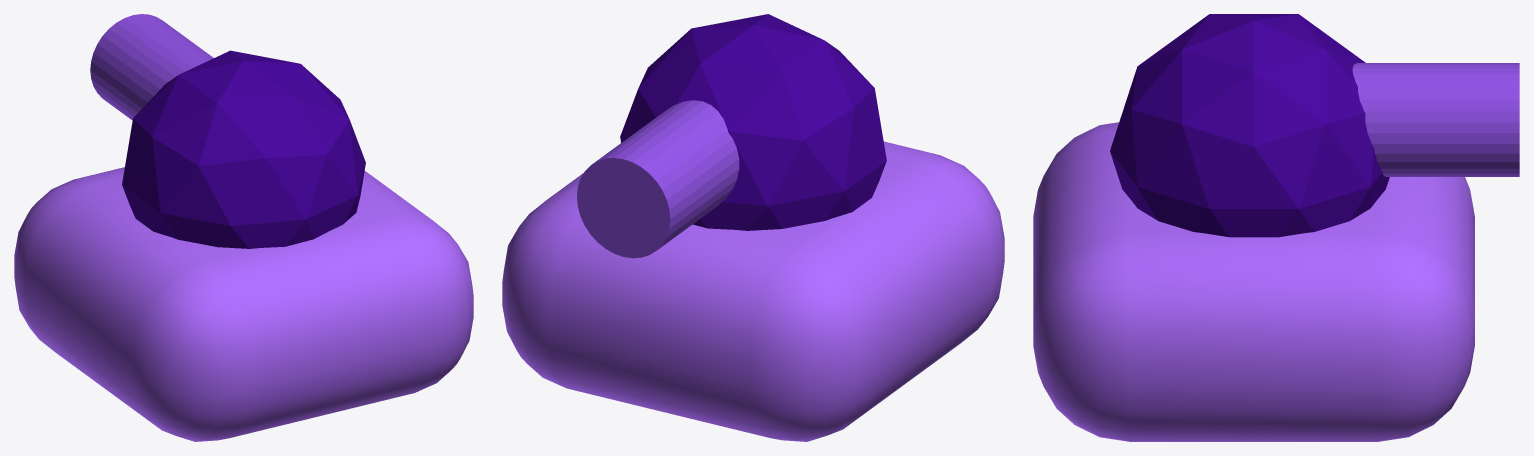
File: enermy3.fbx
3 views of the same model, side by side, from view 1: azimuth 30°, elevation 25°; view 2: azimuth 150°, elevation 25°; view 3: azimuth 270°, elevation 25° (orthographic). The views are drawn at different scales.
Parts seen in each view (by area): view 1: 敌人坦克3, 棱角球.003, 柱体.003; view 2: 敌人坦克3, 棱角球.003, 柱体.003; view 3: 敌人坦克3, 棱角球.003, 柱体.003.
Boxes of the visible parts, left/top/right/bottom form: 敌人坦克3: left=14, top=167, right=473, bottom=441; 棱角球.003: left=122, top=50, right=365, bottom=248; 柱体.003: left=90, top=14, right=213, bottom=120; 敌人坦克3: left=502, top=141, right=1004, bottom=441; 棱角球.003: left=620, top=14, right=886, bottom=230; 柱体.003: left=577, top=100, right=739, bottom=258; 敌人坦克3: left=1033, top=122, right=1474, bottom=441; 棱角球.003: left=1110, top=14, right=1389, bottom=237; 柱体.003: left=1352, top=63, right=1519, bottom=176.
Bounding box in the file's own units: 1 × 0.9015 × 1.1.
